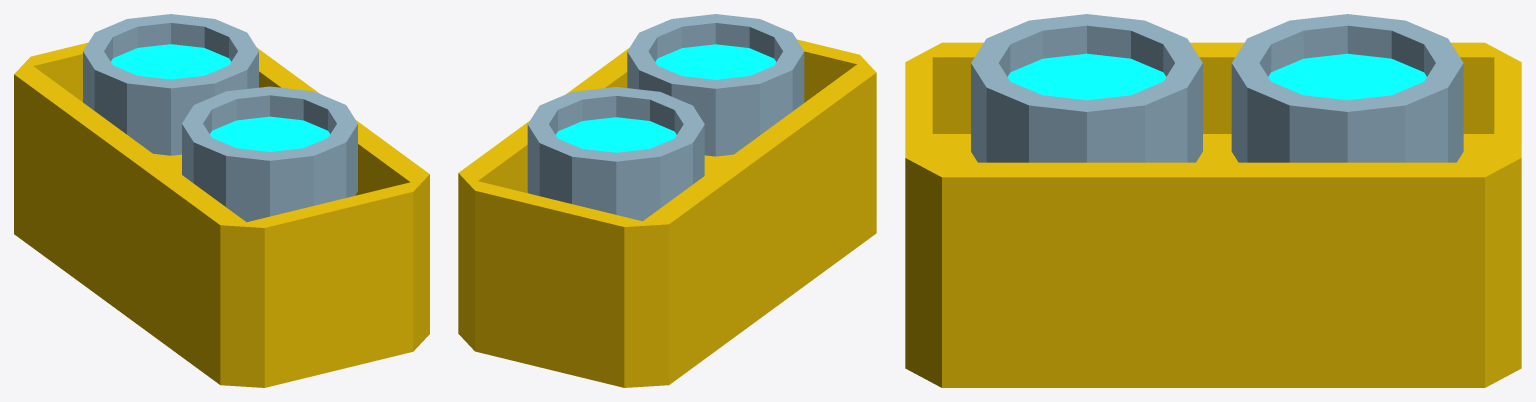
File: sensor.fbx
3 renders of one model, left to right at view 1: azimuth 30°, elevation 25°; view 2: azimuth 150°, elevation 25°; view 3: azimuth 270°, elevation 25°, orthographic. The views are drawn at different scales.
Parts seen in each view (by area): view 1: Sensor; view 2: Sensor; view 3: Sensor.
Part boxes in pixels (left/top/right/bottom): Sensor: left=14, top=14, right=429, bottom=387; Sensor: left=458, top=14, right=876, bottom=387; Sensor: left=905, top=14, right=1521, bottom=387.
Bounding box in the file's own units: 68.54 × 61.16 × 133.
